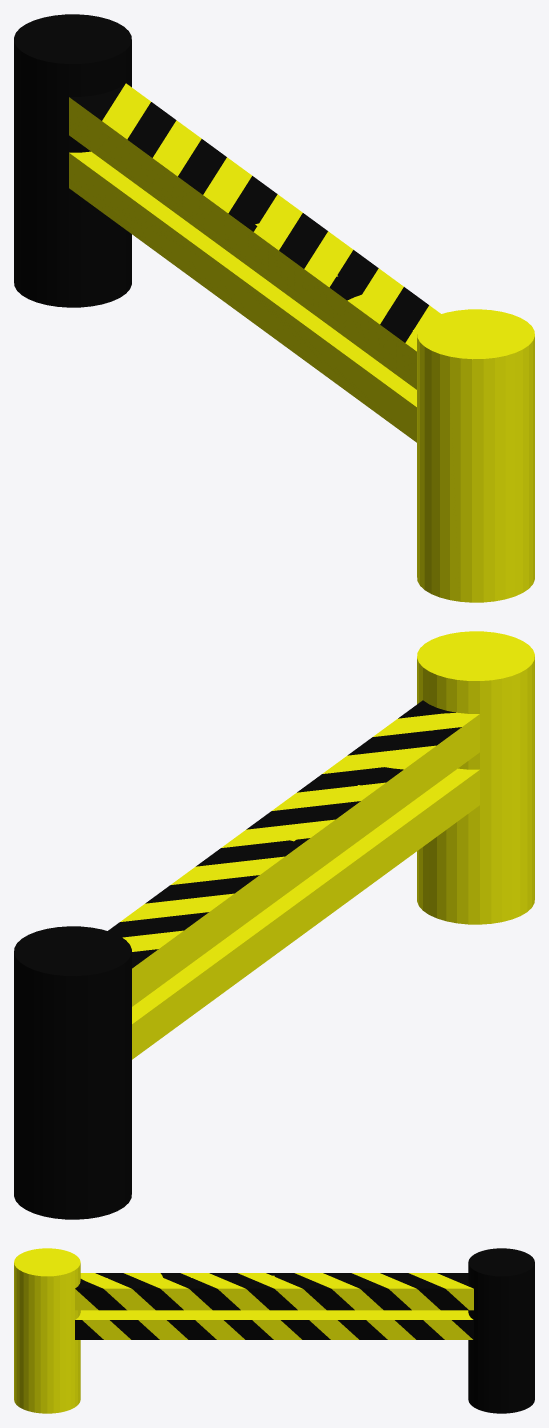
Rendered from barricade.fbx.
3 views of the same model, one above another, from view 1: azimuth 30°, elevation 25°; view 2: azimuth 150°, elevation 25°; view 3: azimuth 270°, elevation 25° (orthographic). The views are drawn at different scales.
Visible parts, largest first — view 1: Cylinder; view 2: Cylinder; view 3: Cylinder.
Boxes of the visible parts, box(x1,y1,x2,y2) form: Cylinder: box(14, 14, 534, 602); Cylinder: box(14, 631, 534, 1219); Cylinder: box(14, 1248, 534, 1413).
Bounding box in the file's own units: 87.99 × 200 × 688.
